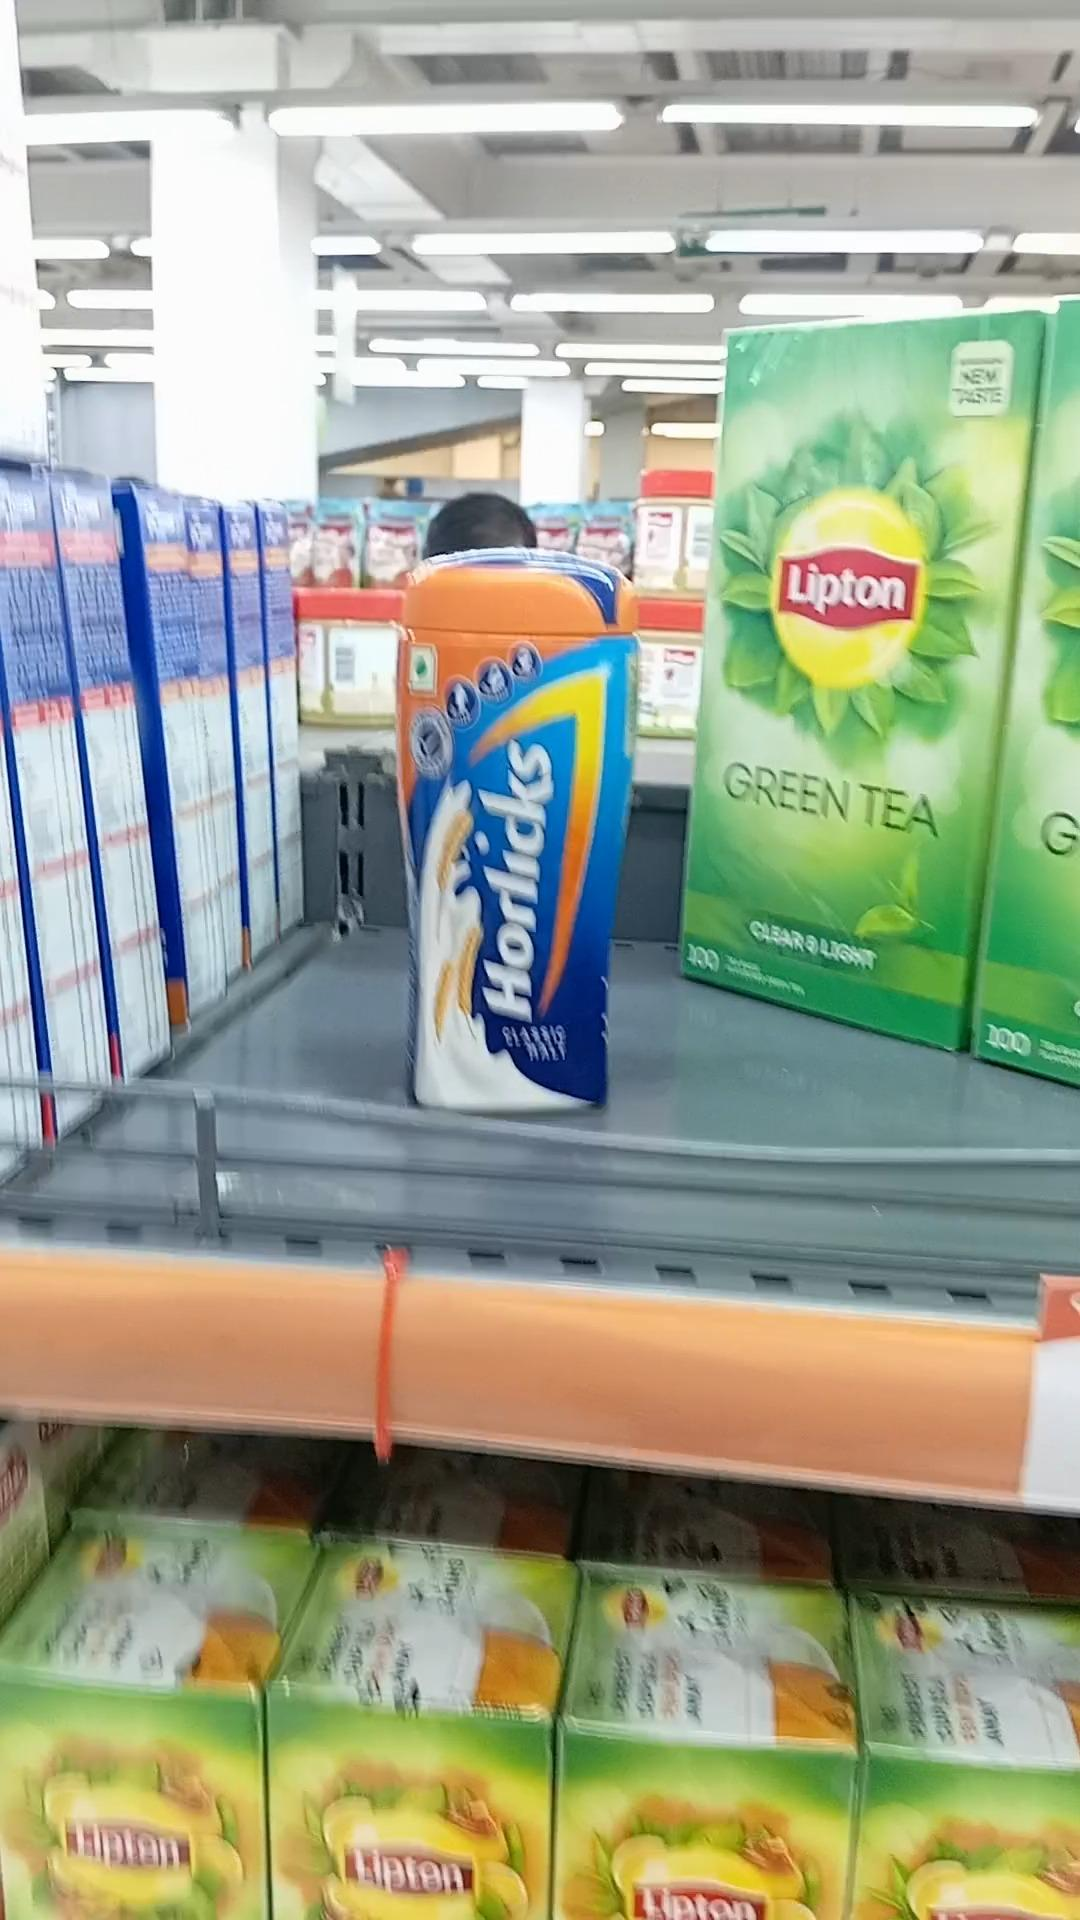HORLICK_CLASSIC_MALT_200_G_JAR: (394, 542, 609, 1129)
